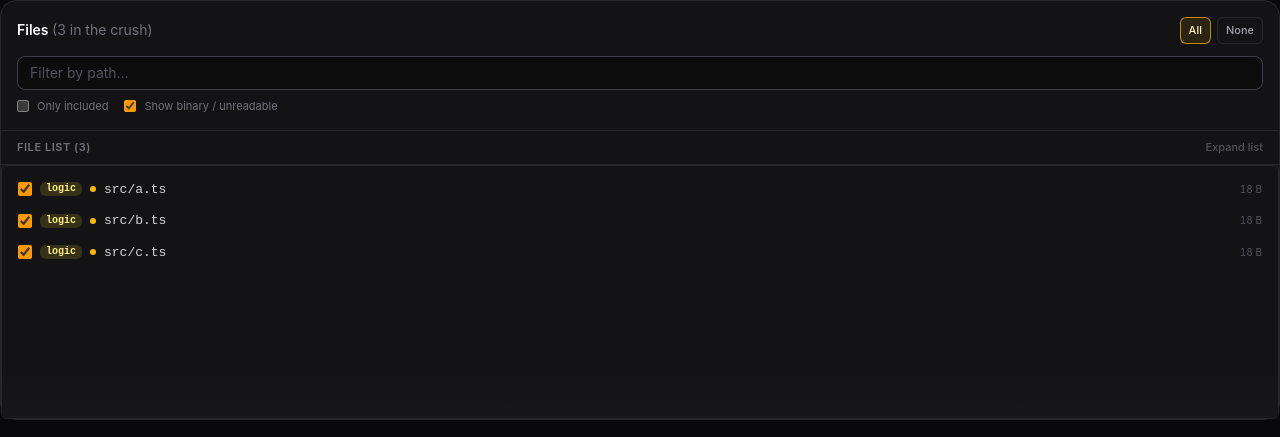
Test: FilePanel All/None mirror the selection › mirrors the user excluding files one by one until None lights up
Step 1. Click the checkbox named "Include src/a.ts" → x=25, y=189, box [18,182,32,196]
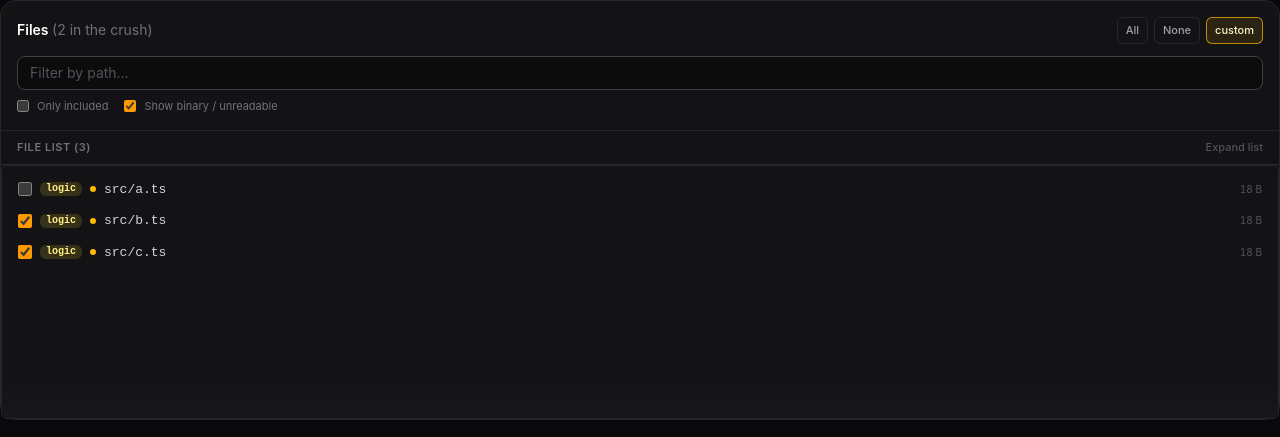
Step 2. Click the checkbox named "Include src/b.ts" → x=25, y=221, box [18,214,32,228]
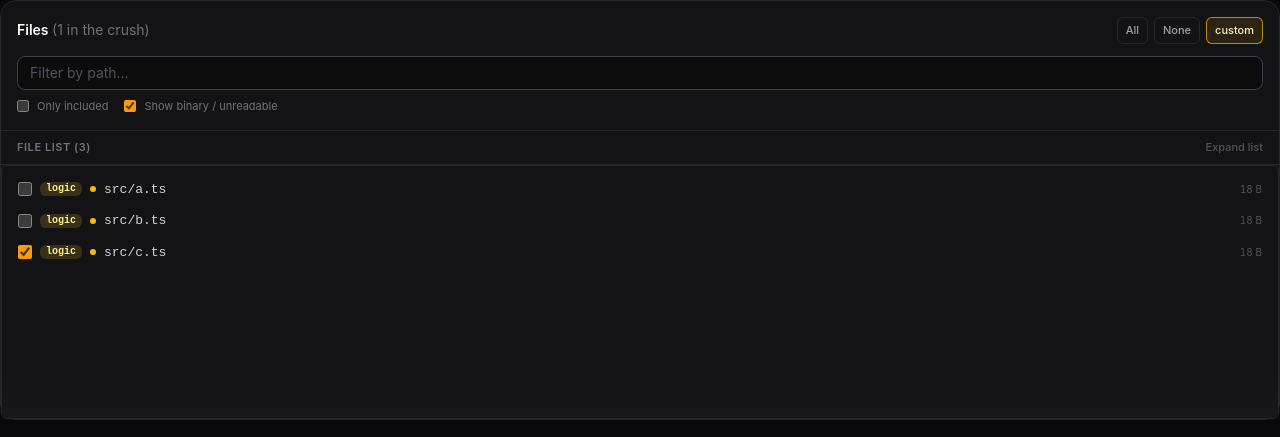
Step 3. Click the checkbox named "Include src/c.ts" → x=25, y=252, box [18,245,32,259]
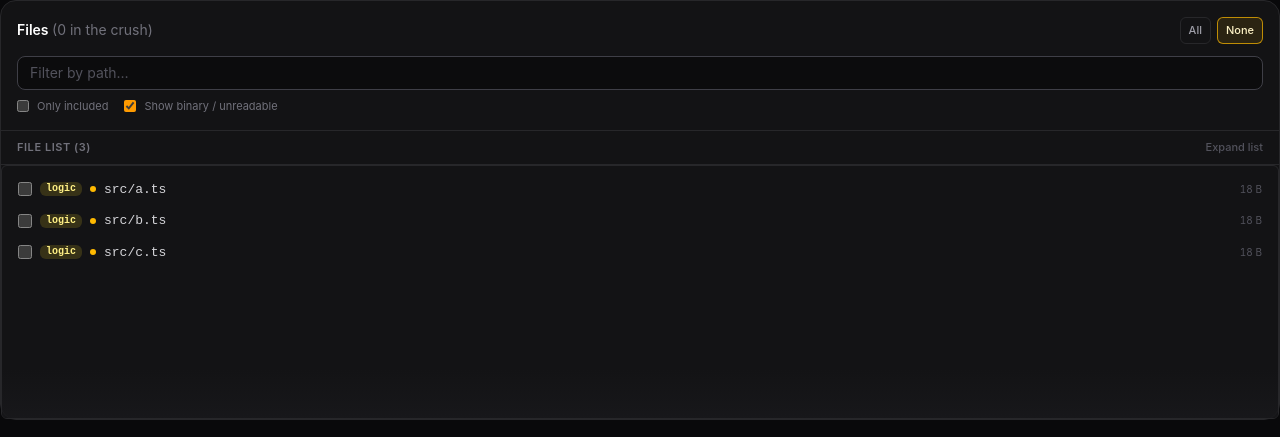
Now the text "custom" is gone
